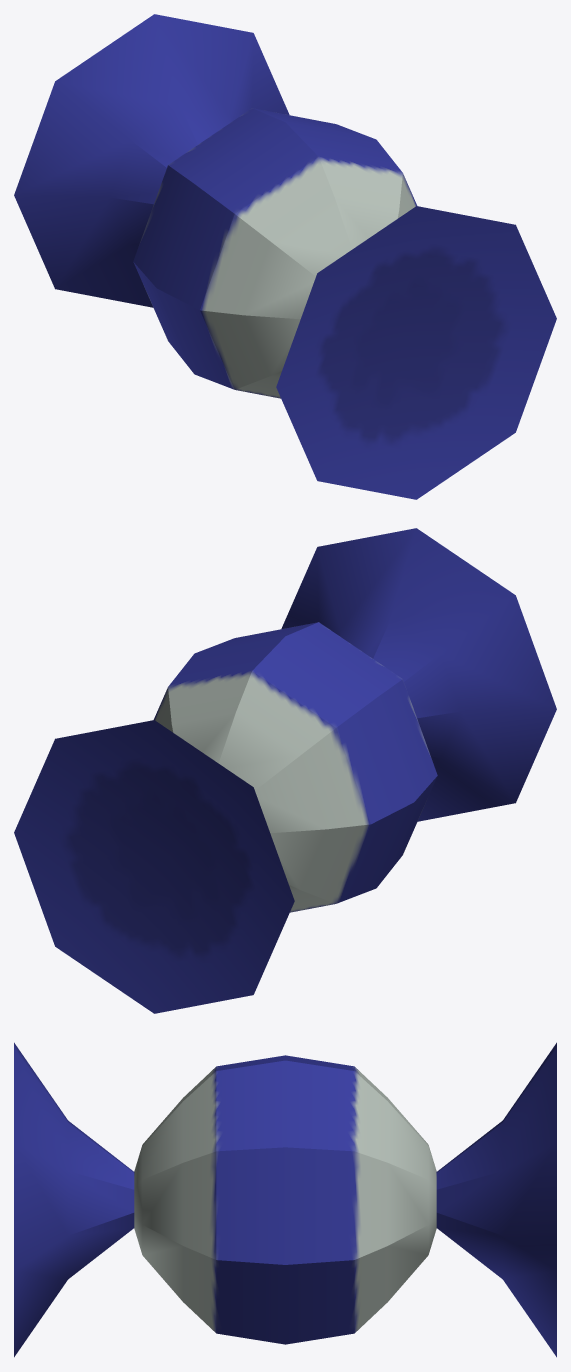
The model's file is Candy.fbx.
The picture shows the model from 3 angles, top to bottom: view 1: azimuth 30°, elevation 25°; view 2: azimuth 150°, elevation 25°; view 3: azimuth 270°, elevation 25°; orthographic projection. The views are drawn at different scales.
Parts seen in each view (by area): view 1: Sphere; view 2: Sphere; view 3: Sphere.
Boxes of the visible parts, bbox=[...] form: Sphere: bbox=[14, 14, 556, 499]; Sphere: bbox=[14, 528, 556, 1013]; Sphere: bbox=[14, 1042, 556, 1357].
Size of the model in its own units: 218 by 218 by 353.
